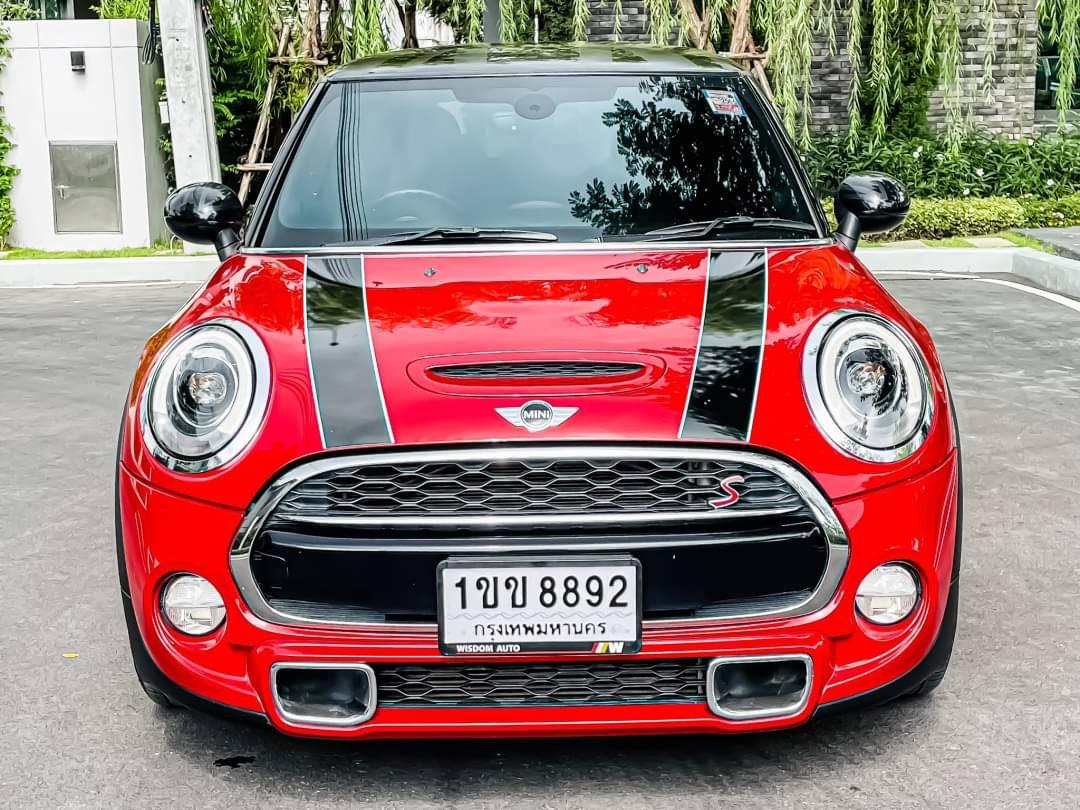license-plate: (434, 547, 645, 658)
